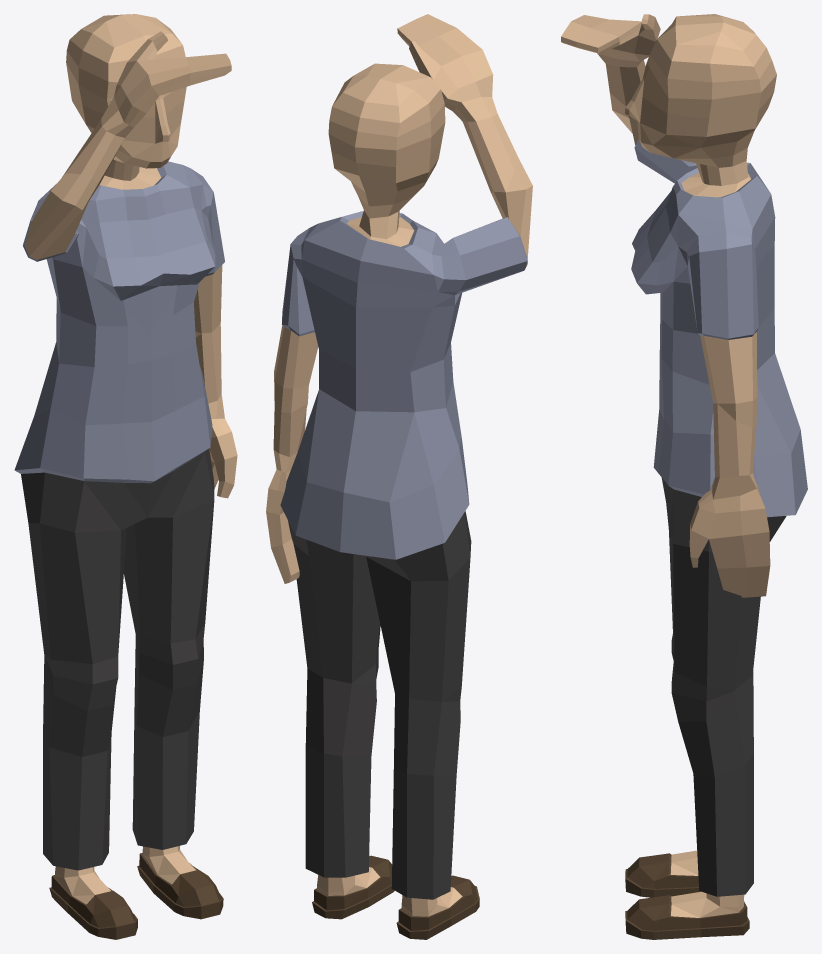
File: Female_Standing_CoveringEyes.glb
3 renders of one model, left to right at view 1: azimuth 30°, elevation 25°; view 2: azimuth 150°, elevation 25°; view 3: azimuth 270°, elevation 25°, orthographic. The views are drawn at different scales.
Parts seen in each view (by area): view 1: Female_Standing_CoveringEyes; view 2: Female_Standing_CoveringEyes; view 3: Female_Standing_CoveringEyes.
Part boxes in pixels (x1,y1,x2,y2): Female_Standing_CoveringEyes: (14,14,237,939); Female_Standing_CoveringEyes: (266,14,532,939); Female_Standing_CoveringEyes: (561,14,807,939).
Bounding box in the file's own units: 1.02 × 3.77 × 0.9409.
